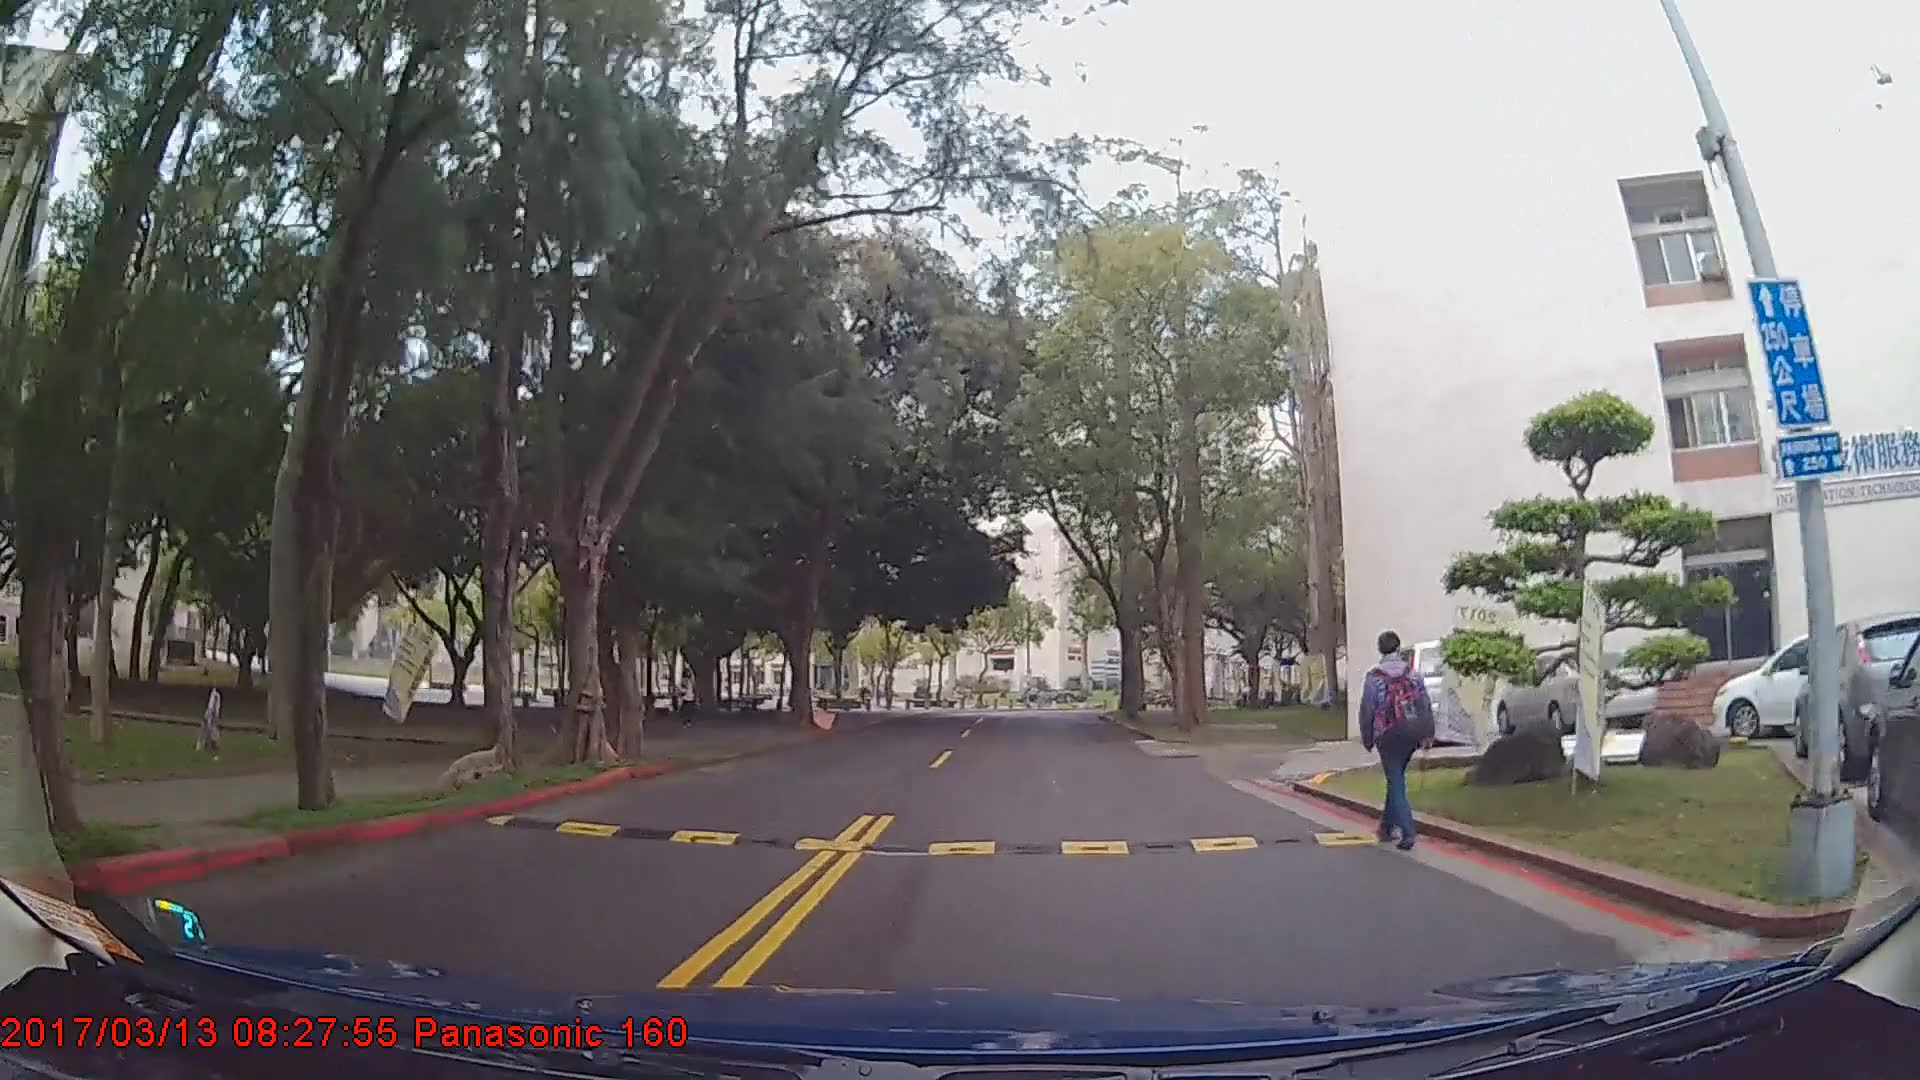pedestrian: (1357, 624, 1436, 850), (675, 669, 703, 732)
vehicle: (1710, 631, 1875, 739)
